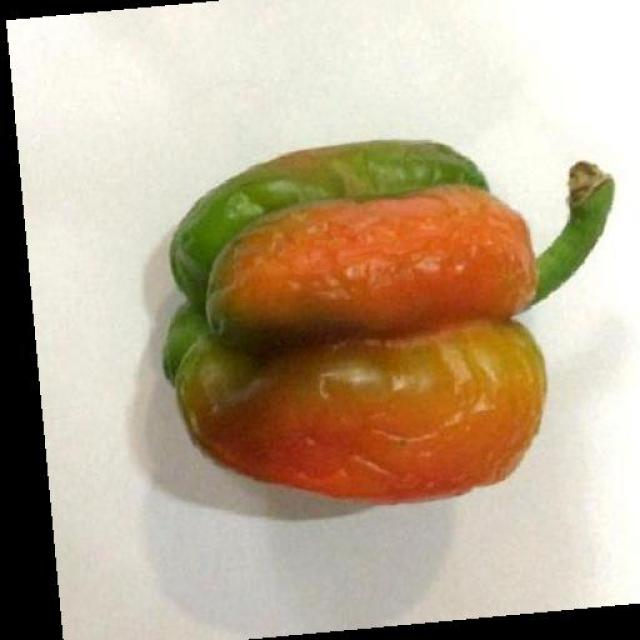Stale_Capsicum: (146, 117, 560, 509)
